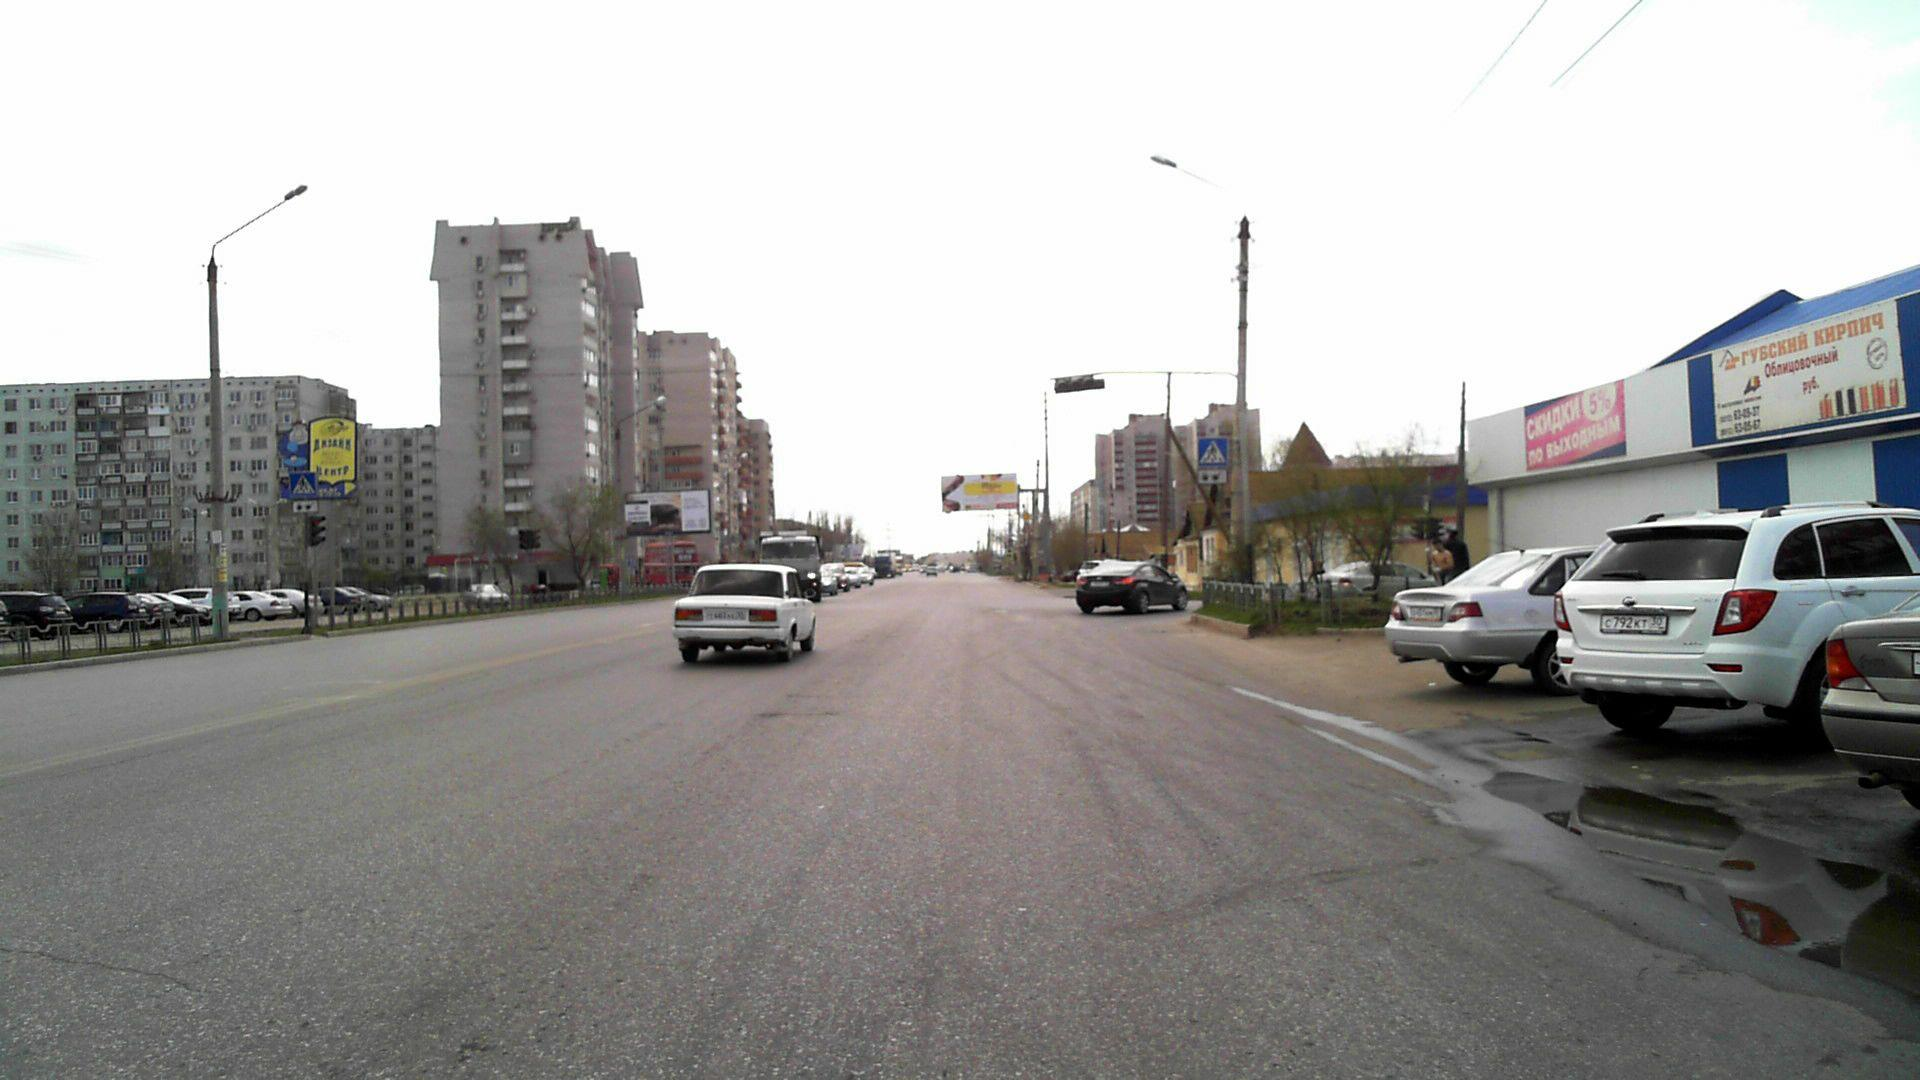5_19_1: (1197, 438, 1228, 467)
5_19_2: (290, 471, 316, 497)
8_15: (291, 498, 320, 514), (1197, 469, 1228, 484)
